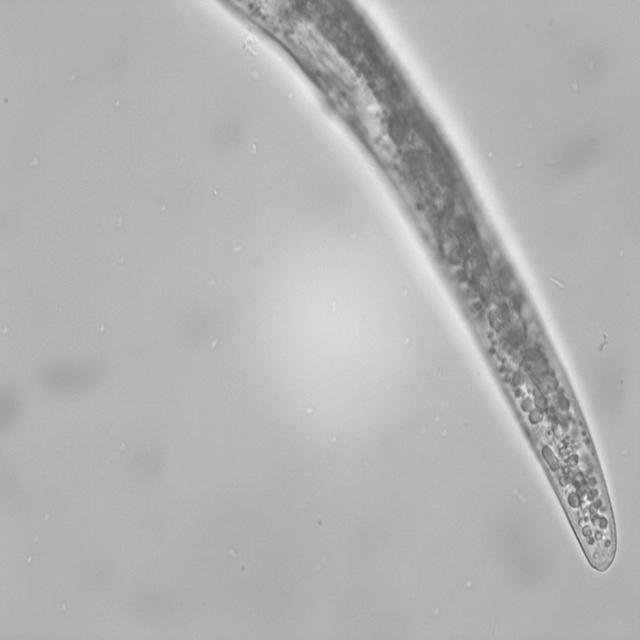Pratylenchus: (383, 191, 626, 585)
